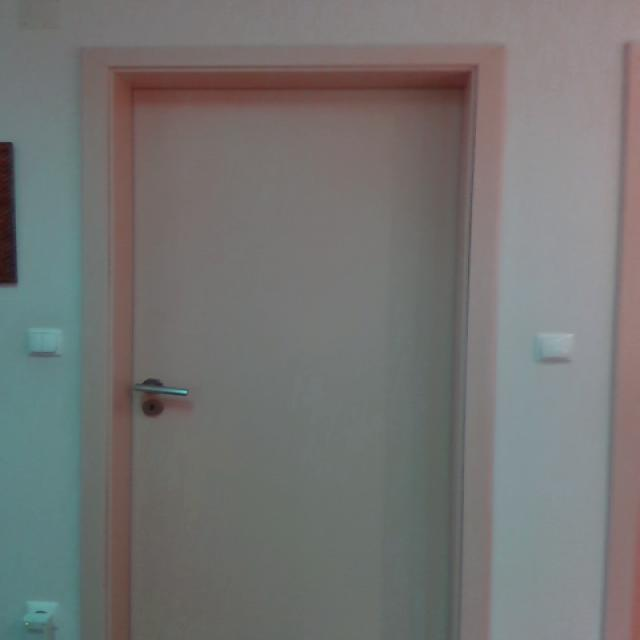door: (70, 47, 516, 640)
